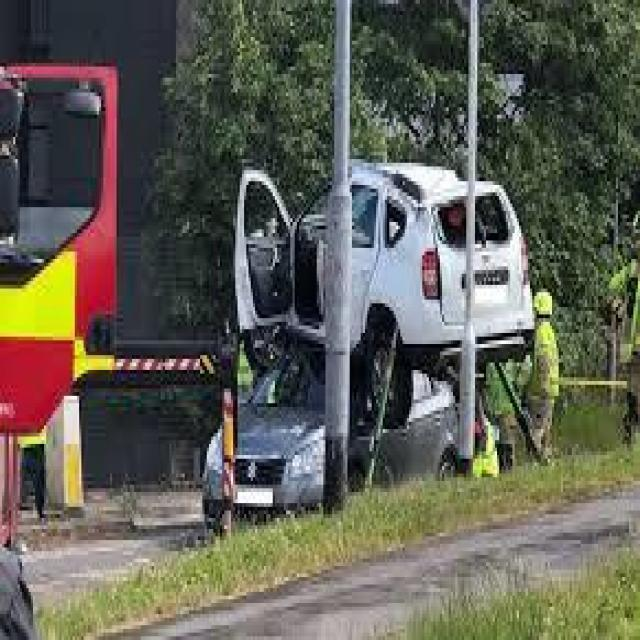multiple_accident: (210, 101, 560, 540)
